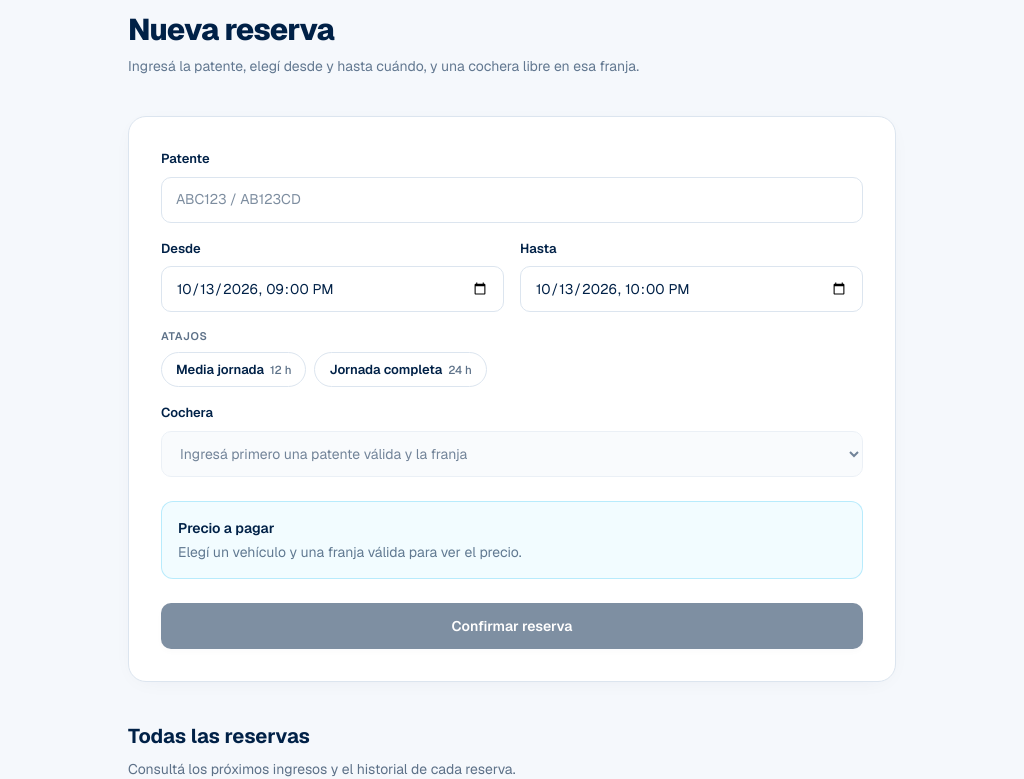
Test case: admin cambia a tarifa Accesible al elegir esa cochera
Step 1. Type "ABC123" into the field labelled "Patente" → (512, 200), box [161,176,863,222]
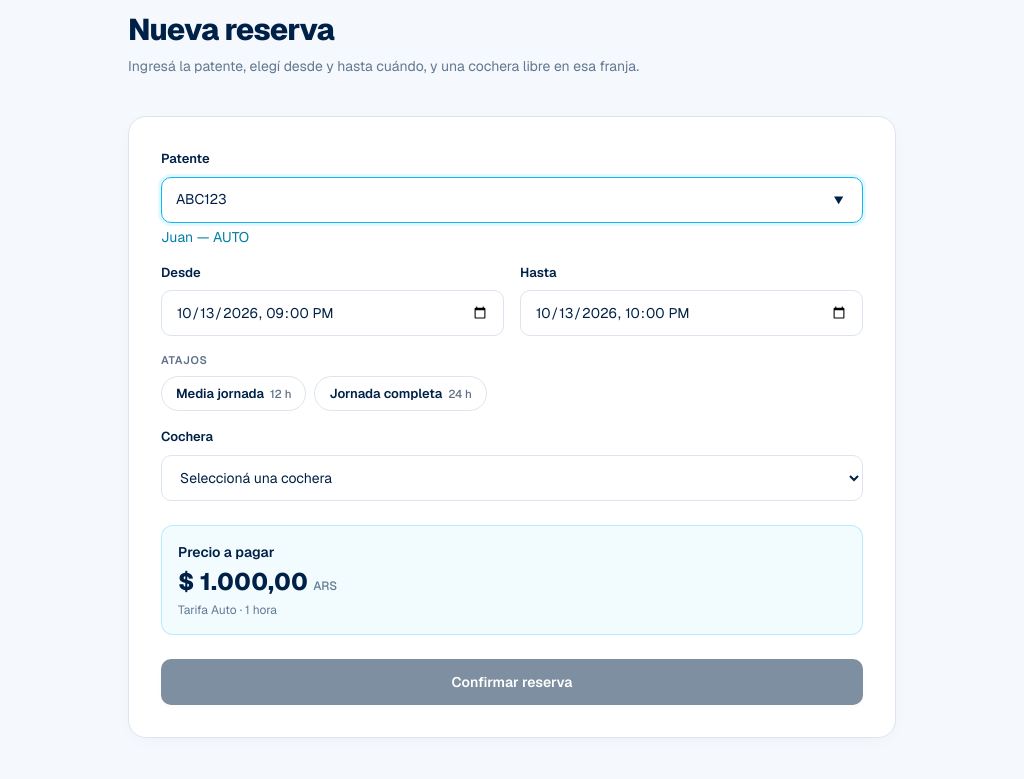
Step 2. Select "AC-01 — PB (ACCESIBLE)" in the dropdown labelled "Cochera" → (512, 478), box [161,454,863,500]
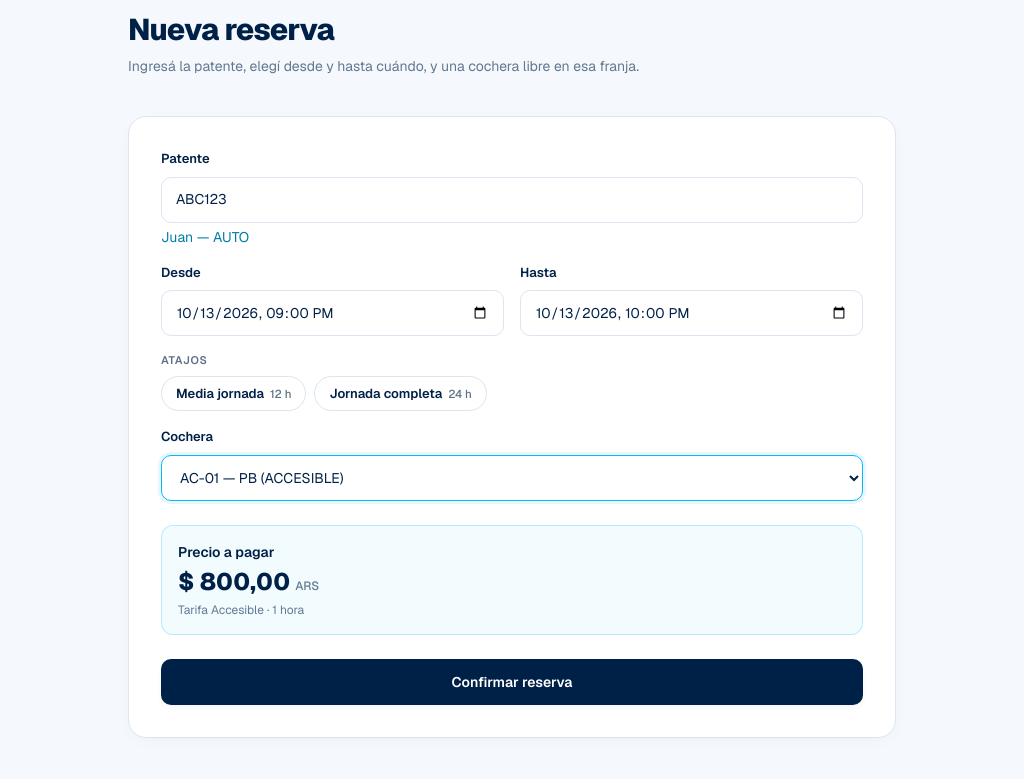
Now the text "$ 800,00 ARS" is shown, box [178,566,319,596]
Now the text "Tarifa Accesible · 1 hora" is shown, box [178,602,304,618]
